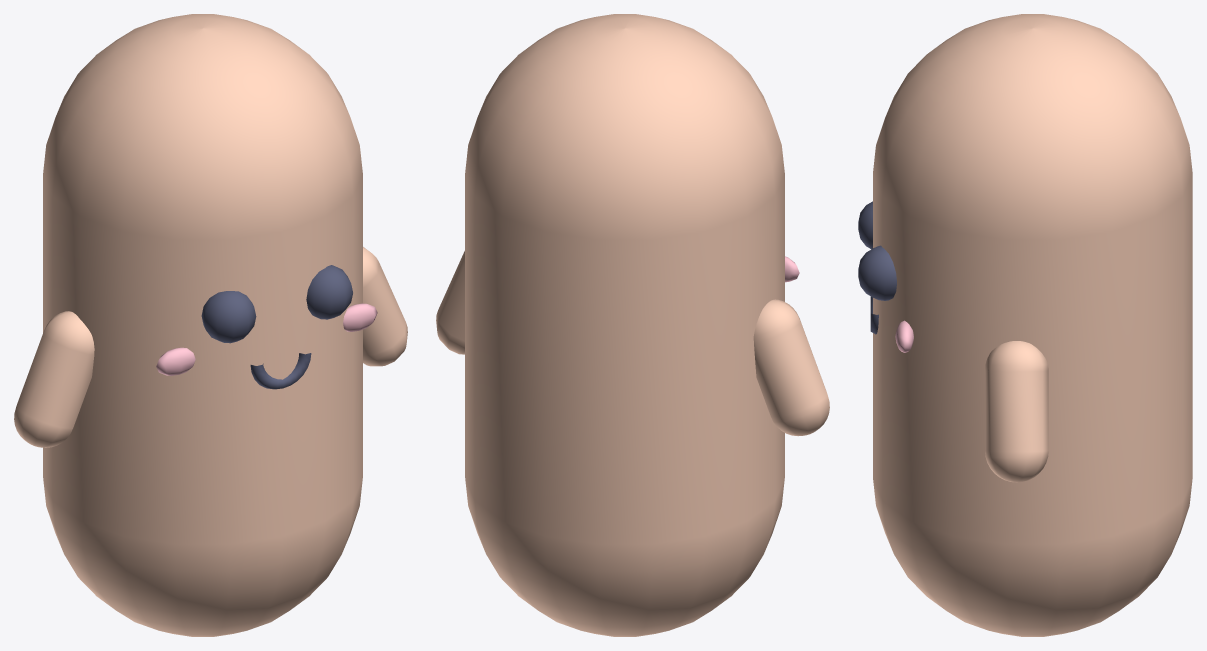
Rendered from warga4.glb.
3 views of the same model, side by side, from view 1: azimuth 30°, elevation 25°; view 2: azimuth 150°, elevation 25°; view 3: azimuth 270°, elevation 25° (orthographic).
Parts seen in each view (by area): view 1: warga4; view 2: warga4; view 3: warga4.
Boxes of the visible parts, x1,y1,x2,y2 form: warga4: (14, 14, 407, 636); warga4: (436, 14, 829, 636); warga4: (858, 14, 1192, 636).
Size of the model in its own units: 0.5556 by 0.82 by 0.4183.
